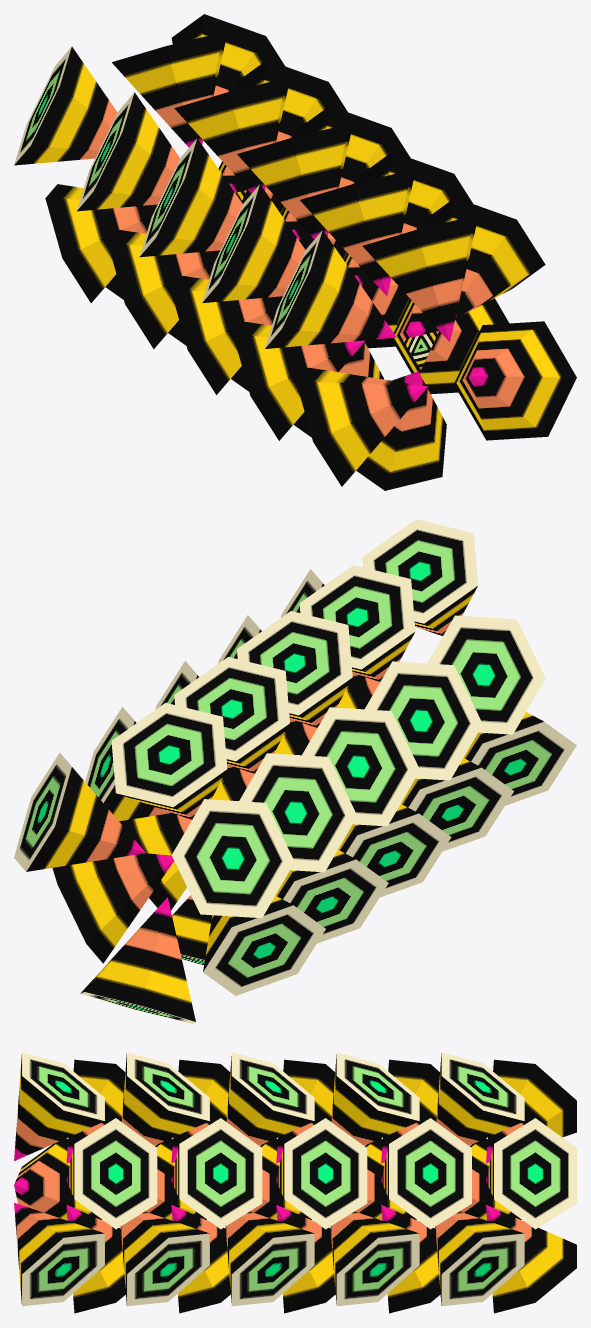
Rendered from hx_a_pyramids_101A.glb.
The picture shows the model from 3 angles, top to bottom: view 1: azimuth 30°, elevation 25°; view 2: azimuth 150°, elevation 25°; view 3: azimuth 270°, elevation 25°; orthographic projection. The views are drawn at different scales.
Visible parts, largest first — view 1: hexamidfM-UV03 1 (×10), hexamidfM-UV03 2 (×10), hexamidfM-UV03 0 (×7), triangle-end; view 2: hexamidfM-UV03 1 (×10), hexamidfM-UV03 0 (×7), hexamidfM-UV03 2 (×10); view 3: hexamidfM-UV03 2 (×10), hexamidfM-UV03 0 (×10), hexamidfM-UV03 1 (×10).
Part boxes in pixels (<box>): hexamidfM-UV03 1 (×10): <box>14,46,576,440</box>; hexamidfM-UV03 2 (×10): <box>45,14,545,486</box>; hexamidfM-UV03 0 (×7): <box>112,32,477,490</box>; triangle-end: <box>403,331,438,369</box>; hexamidfM-UV03 1 (×10): <box>52,615,545,963</box>; hexamidfM-UV03 0 (×7): <box>80,519,478,1023</box>; hexamidfM-UV03 2 (×10): <box>14,569,576,995</box>; hexamidfM-UV03 2 (×10): <box>14,1118,576,1229</box>; hexamidfM-UV03 0 (×10): <box>14,1052,576,1313</box>; hexamidfM-UV03 1 (×10): <box>14,1059,576,1306</box>.
Size of the model in its own units: 48.6 by 50 by 107.
1 material, 1 textured.
